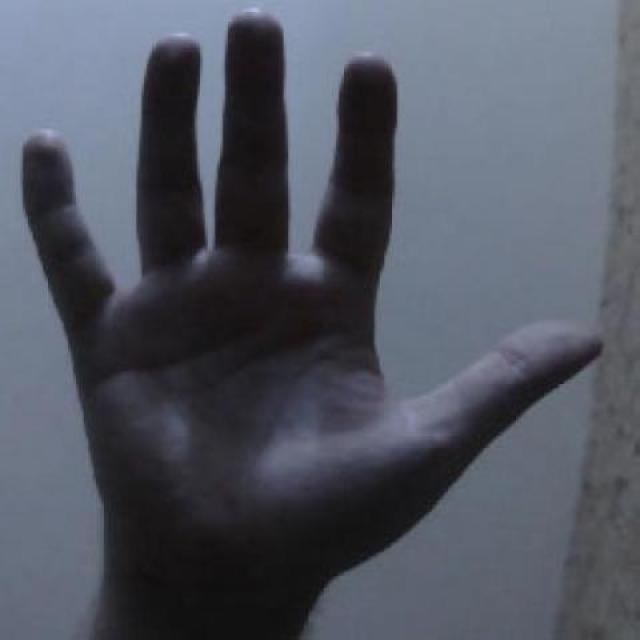Open Hand: (11, 4, 608, 640)
